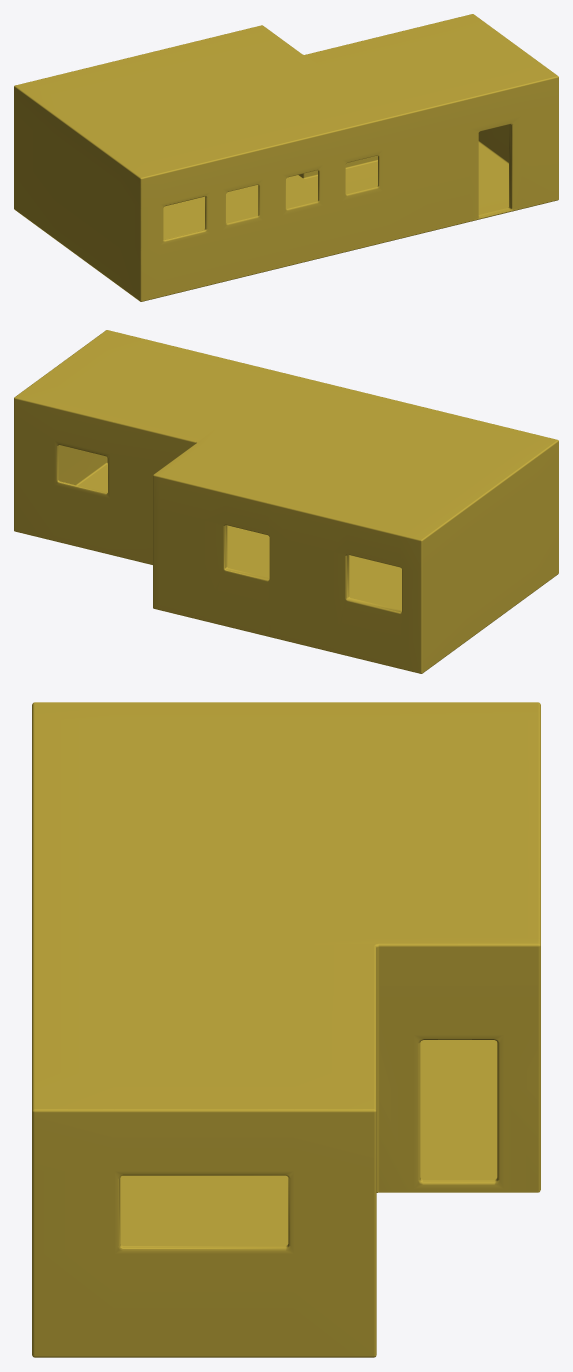
File: FM_H_SH_02_Block_01_001.fbx
3 renders of one model, top to bottom at view 1: azimuth 30°, elevation 25°; view 2: azimuth 150°, elevation 25°; view 3: azimuth 270°, elevation 25°, orthographic. The views are drawn at different scales.
Visible parts, largest first — view 1: FM_H_SH_02_Block_01_001; view 2: FM_H_SH_02_Block_01_001; view 3: FM_H_SH_02_Block_01_001.
Part boxes in pixels (left/top/right/bottom): FM_H_SH_02_Block_01_001: left=14, top=14, right=558, bottom=301; FM_H_SH_02_Block_01_001: left=14, top=330, right=558, bottom=673; FM_H_SH_02_Block_01_001: left=32, top=702, right=540, bottom=1357.
Size of the model in its own units: 13.17 by 3.74 by 6.93.
